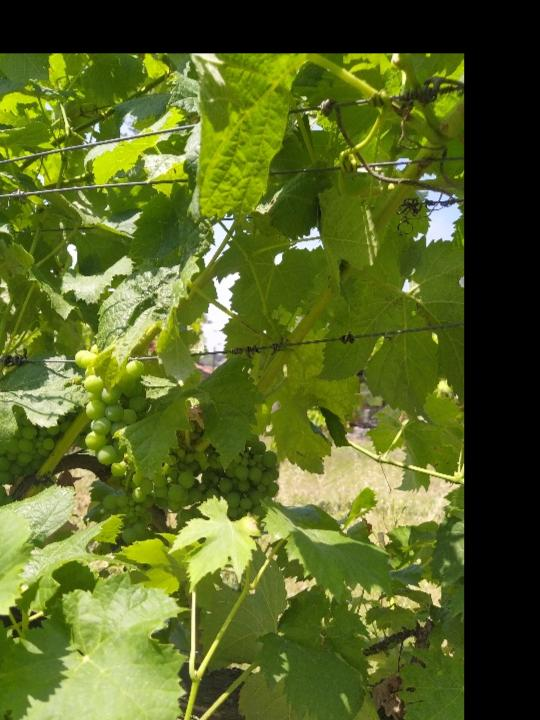grape: (71, 339, 150, 479), (196, 430, 280, 522)
